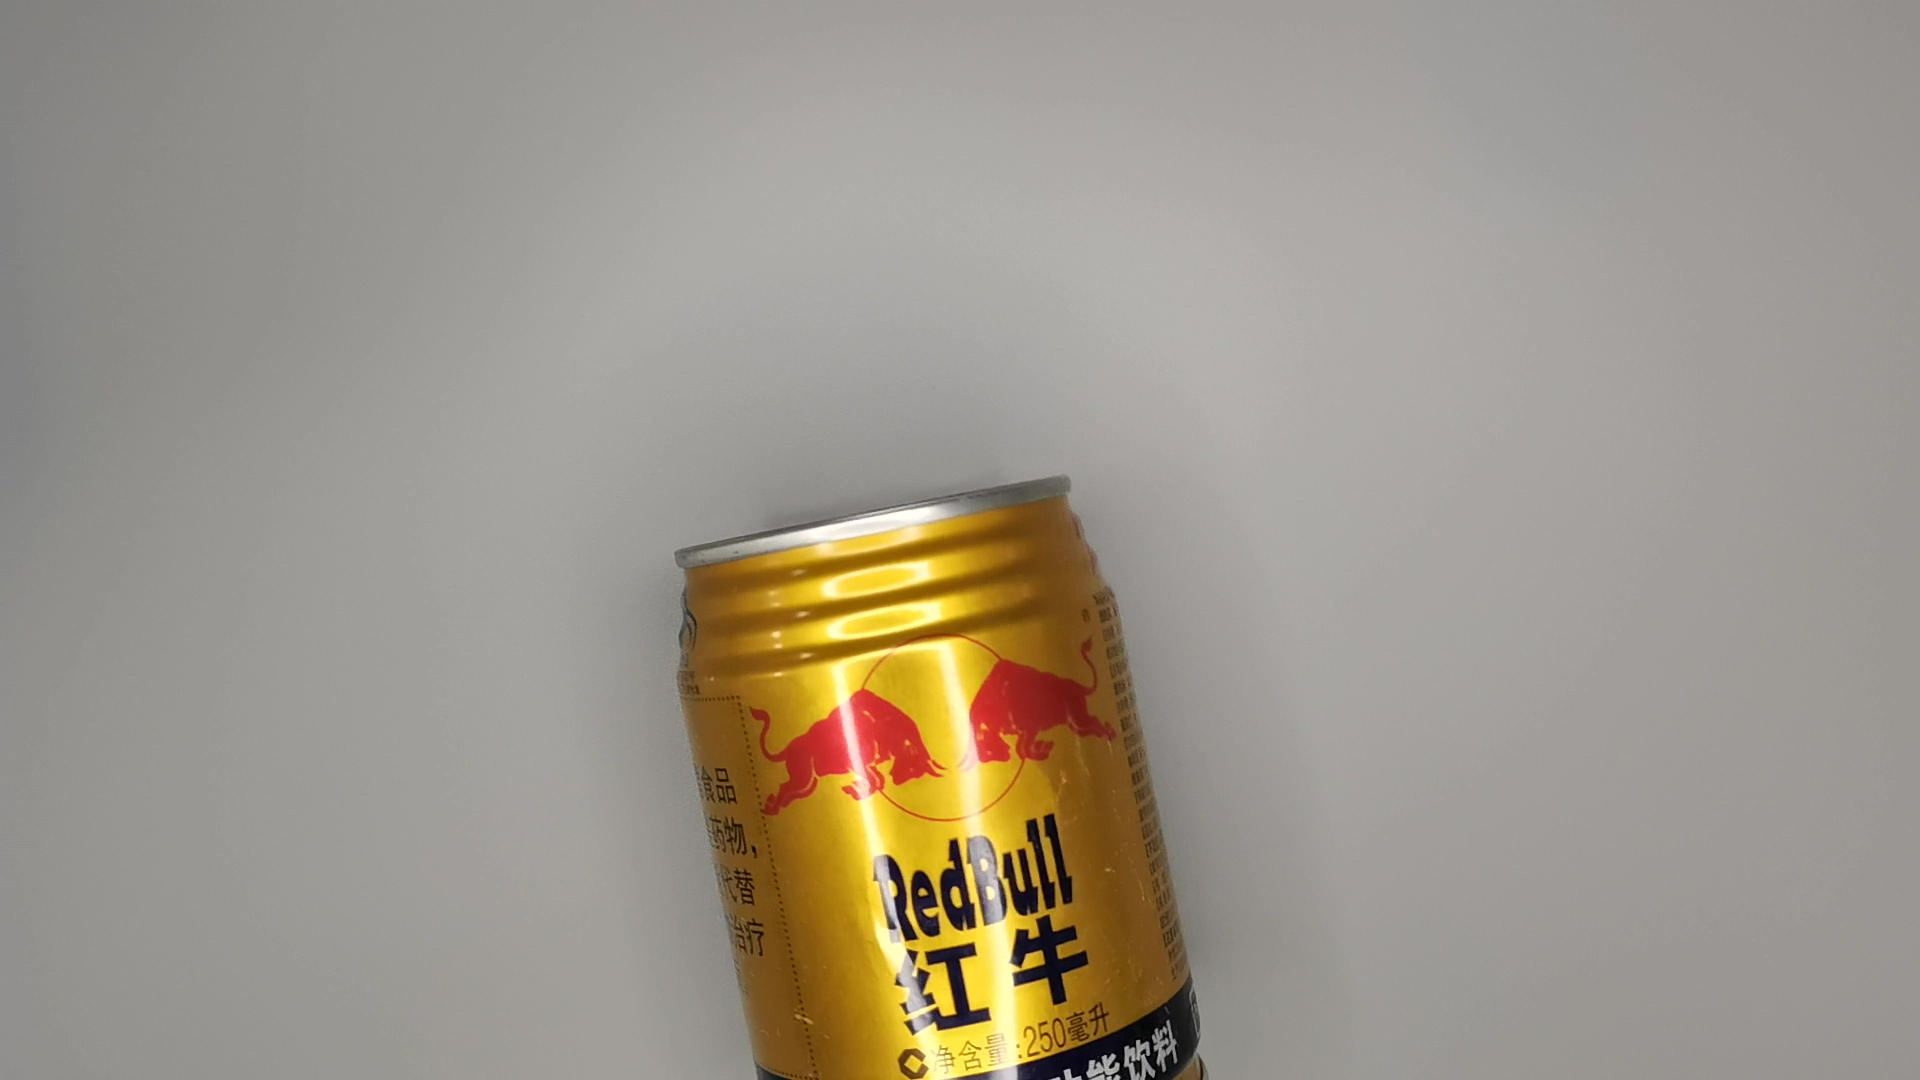can: (673, 465, 1228, 1080)
